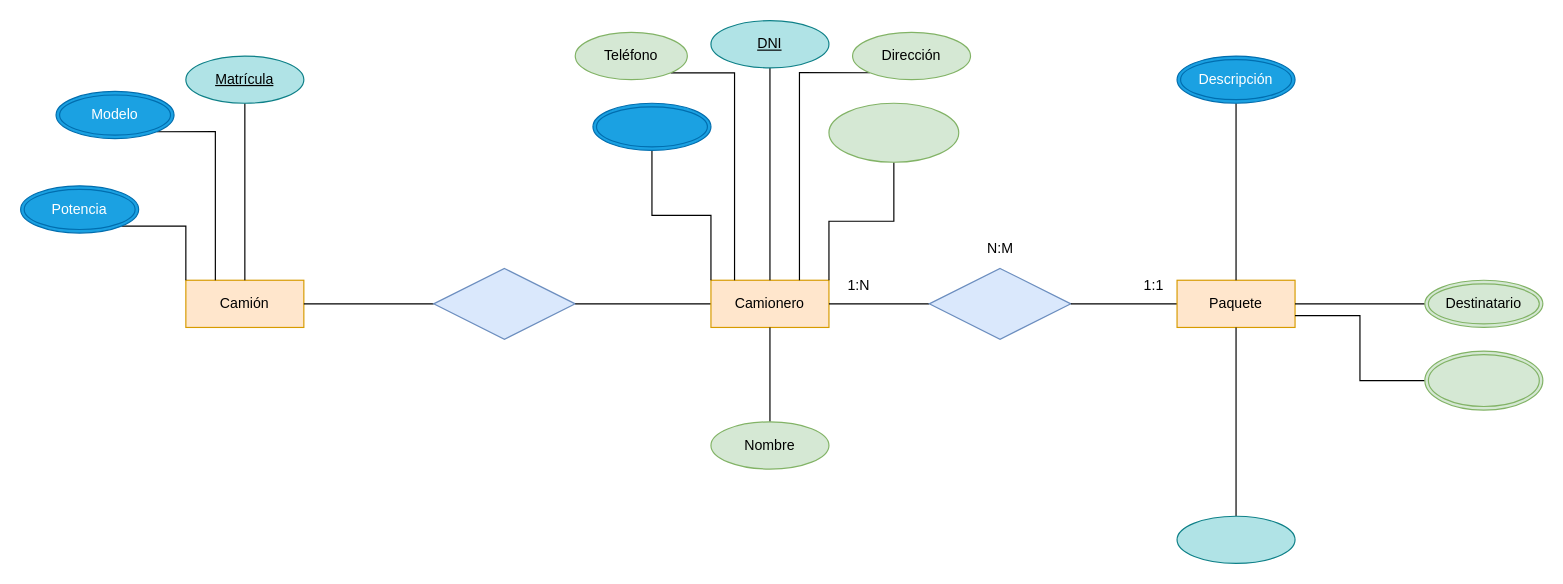
This 1563x584 diagram has some shape labels left out. Here are the shapes that lost their labels. From the top down, the box of each, then its label:
(592, 102, 711, 150): Salario
(828, 102, 959, 162): Población en que vive
(432, 267, 575, 339): es conducido
(928, 267, 1071, 339): distribuye
(1424, 350, 1543, 410): Dirección de destinatario
(1176, 515, 1295, 563): Código de paquete
